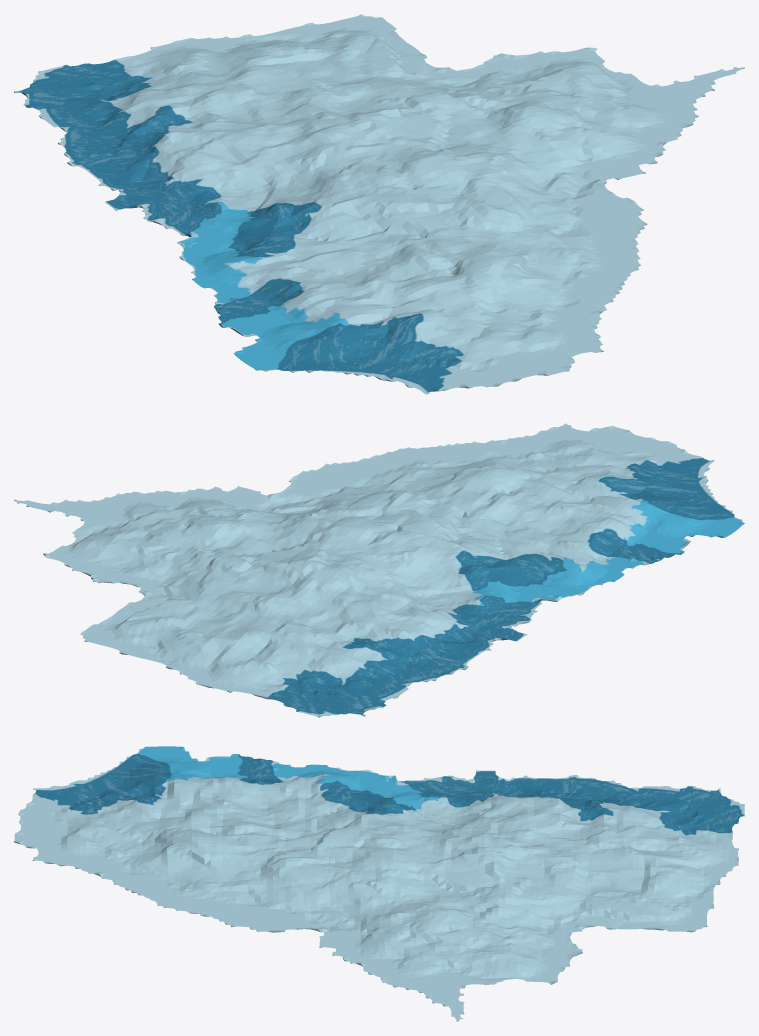
Rendered from mapblue.glb.
3 renders of one model, top to bottom at view 1: azimuth 30°, elevation 25°; view 2: azimuth 150°, elevation 25°; view 3: azimuth 270°, elevation 25°, orthographic. The views are drawn at different scales.
Visible parts, largest first — view 1: BézierCurve; view 2: BézierCurve; view 3: BézierCurve.
Part boxes in pixels (<box>): BézierCurve: <box>14,14,744,394</box>; BézierCurve: <box>14,423,744,717</box>; BézierCurve: <box>14,746,744,1021</box>.
Size of the model in its own units: 0.3733 by 0.0157 by 0.4194.
Materials: 1 (1 with a texture image).
